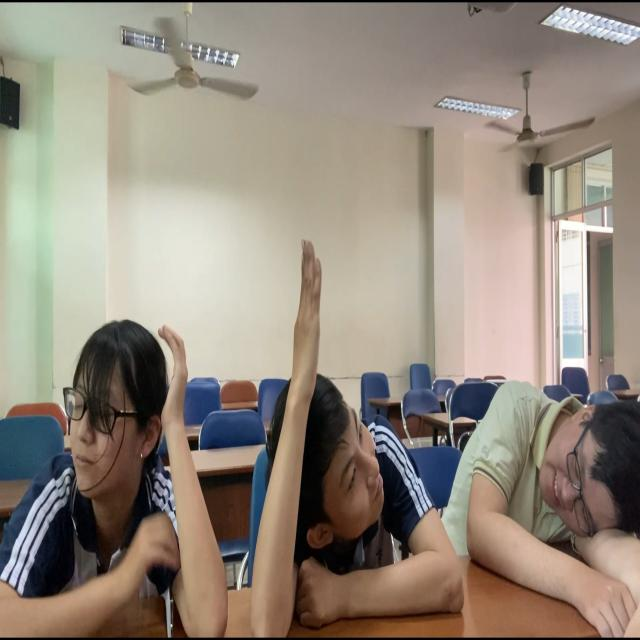sleep: (454, 373, 640, 640)
